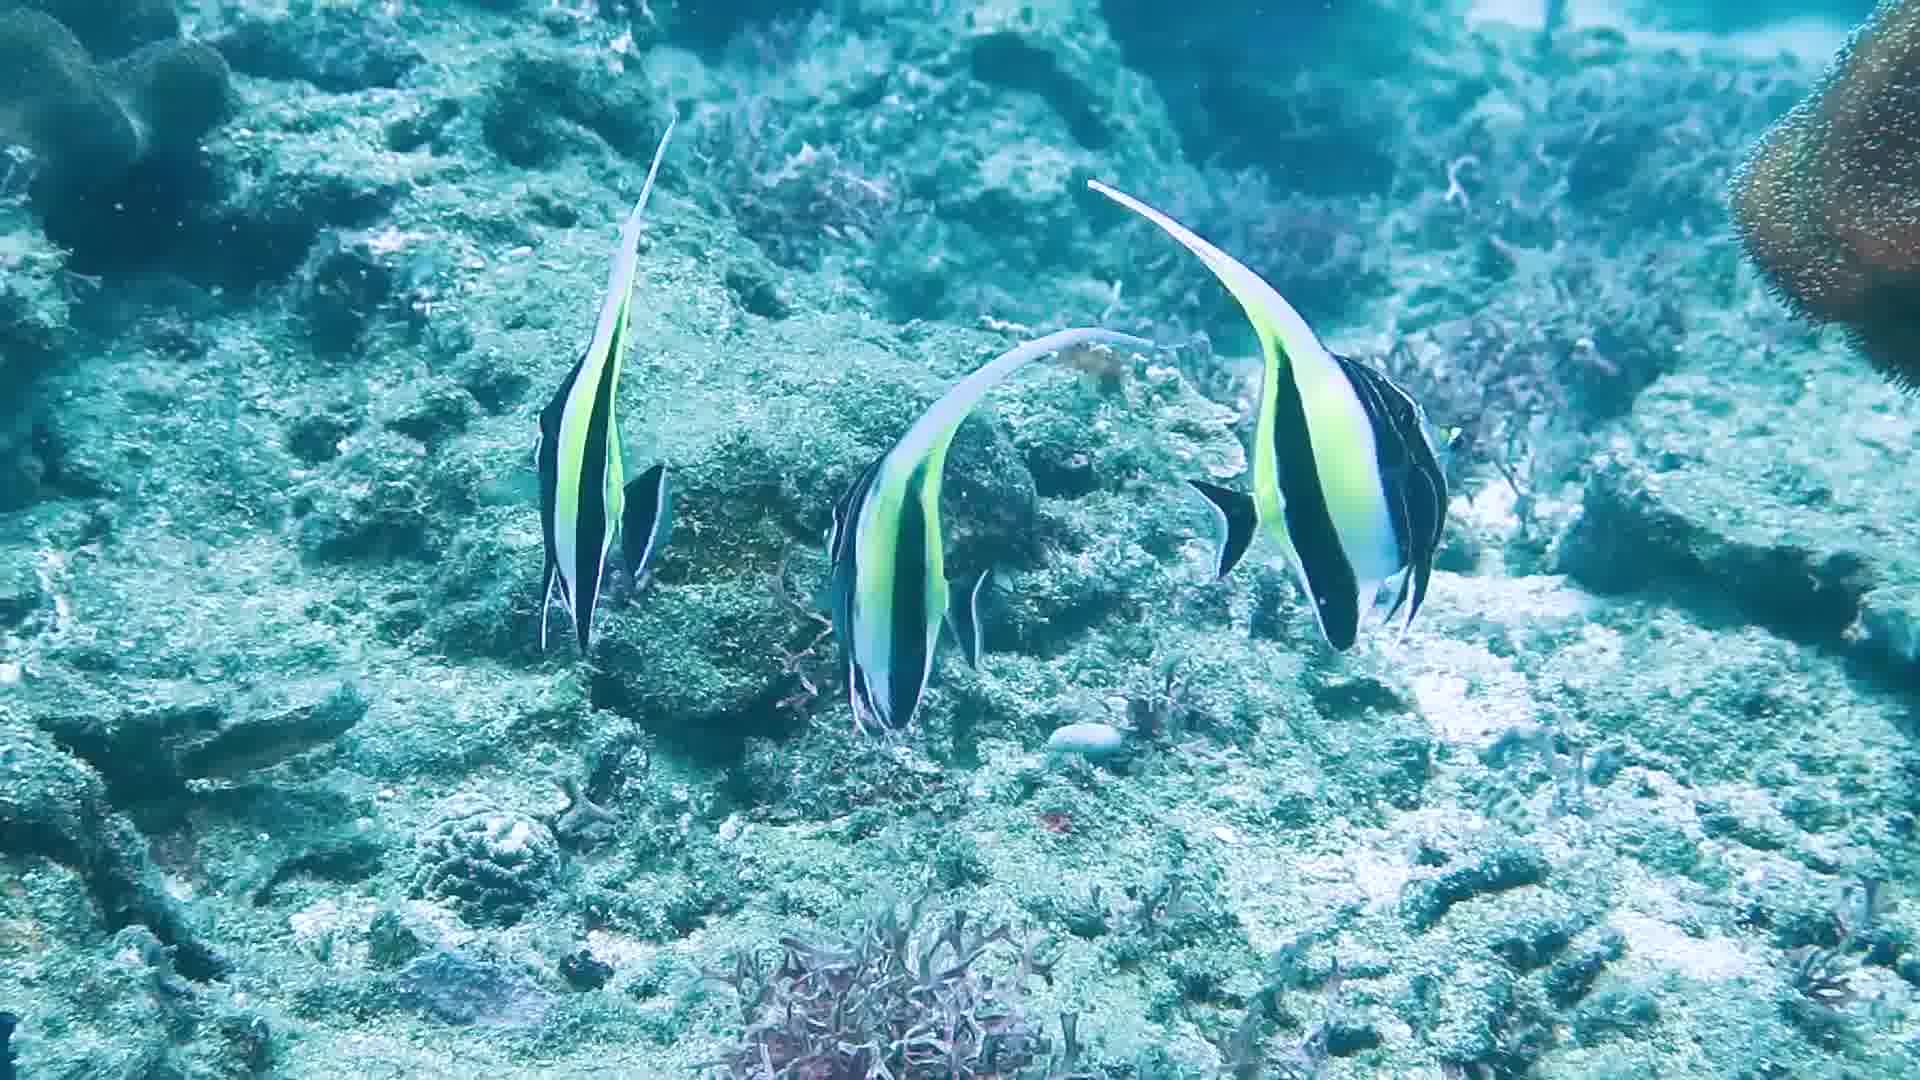Zanclus cornutus: (1185, 286, 1480, 646), (828, 386, 1023, 769), (513, 311, 674, 645)
